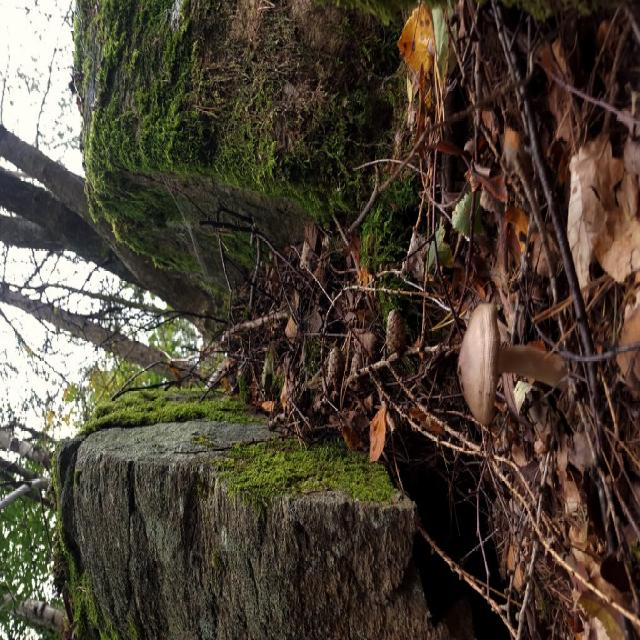Mushroom: (458, 306, 570, 426)
